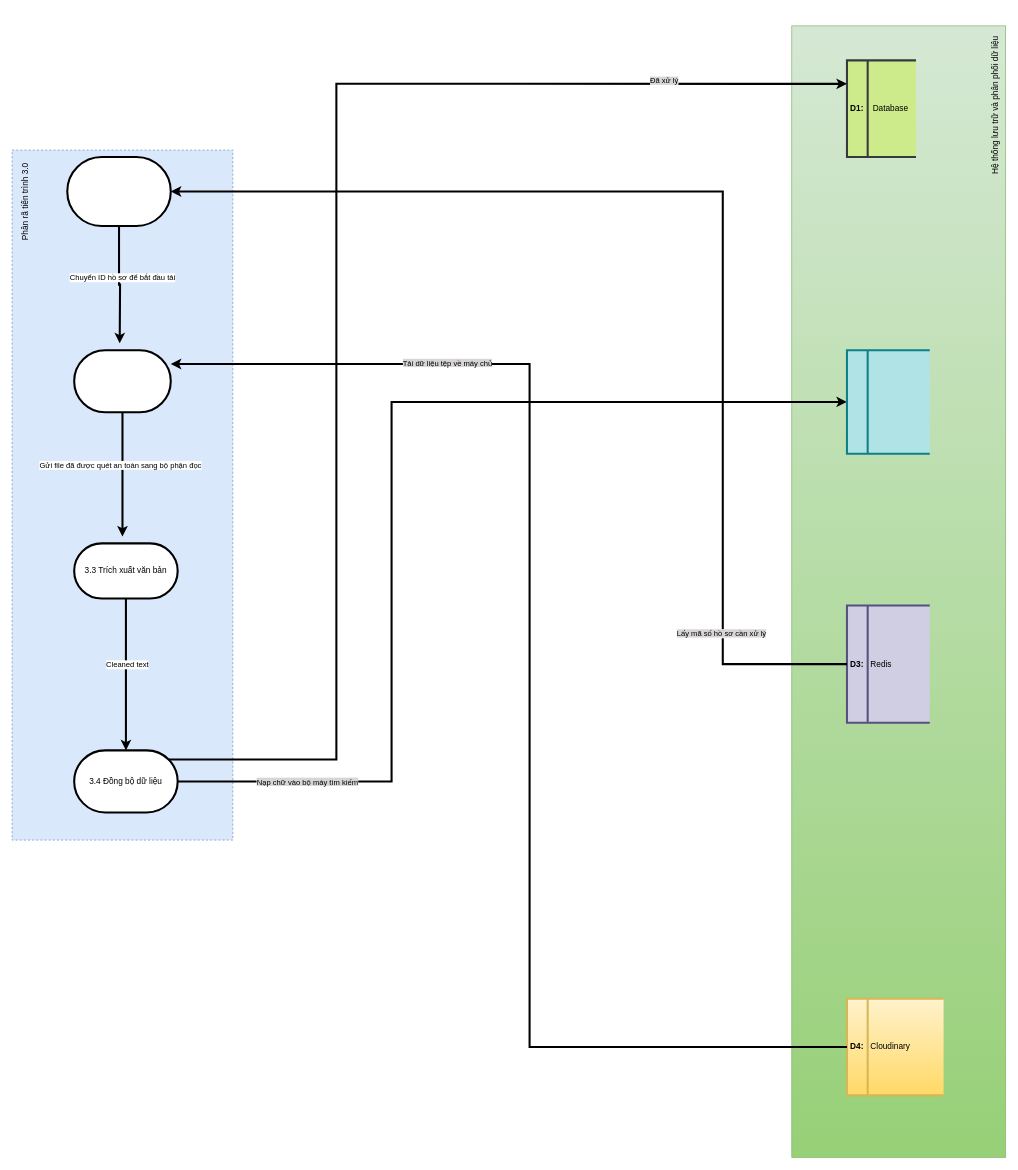
Some shapes in this 1018 by 1170 pixel diagram are drawn without their labels. The centre of each missing label's shape, as x and y in pixels:
"3.1 Kiểm tra hàng đợi" goes at (118,191).
"3.2 Tải và quét tệp" goes at (122,381).
"D2: Meilisearch" goes at (888,401).
